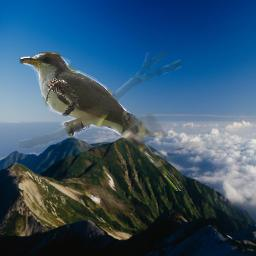Cuckoo: (19, 52, 181, 191)
